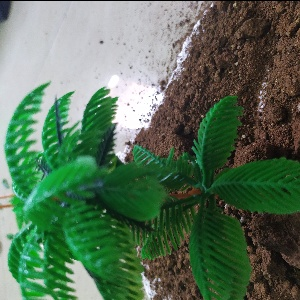plant: (3, 81, 299, 300)
